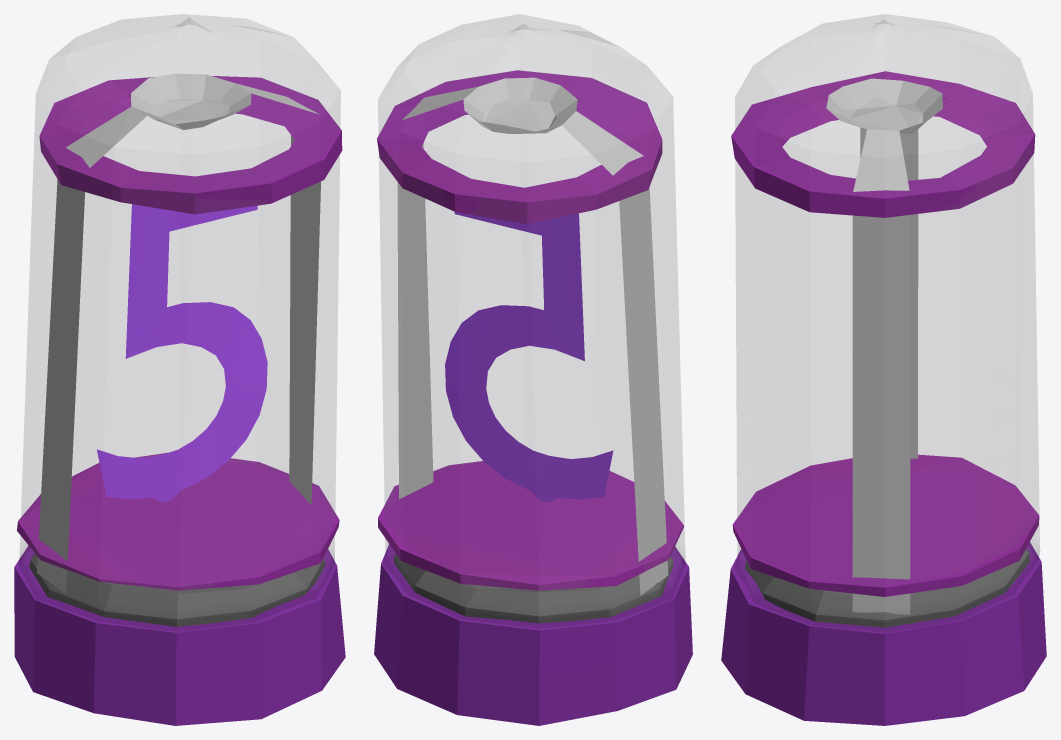
Rendered from obj_num05_hard.gltf.
3 renders of one model, left to right at view 1: azimuth 30°, elevation 25°; view 2: azimuth 150°, elevation 25°; view 3: azimuth 270°, elevation 25°, orthographic. The views are drawn at different scales.
Visible parts, largest first — view 1: obj_num05_hard; view 2: obj_num05_hard; view 3: obj_num05_hard.
Boxes of the visible parts, left/top/right/bottom form: obj_num05_hard: left=14, top=14, right=345, bottom=725; obj_num05_hard: left=374, top=14, right=692, bottom=725; obj_num05_hard: left=721, top=14, right=1046, bottom=725.
Size of what is drawn, in the model's own units: 0.3374 by 0.7186 by 0.3285.
2 materials, 2 textured.
